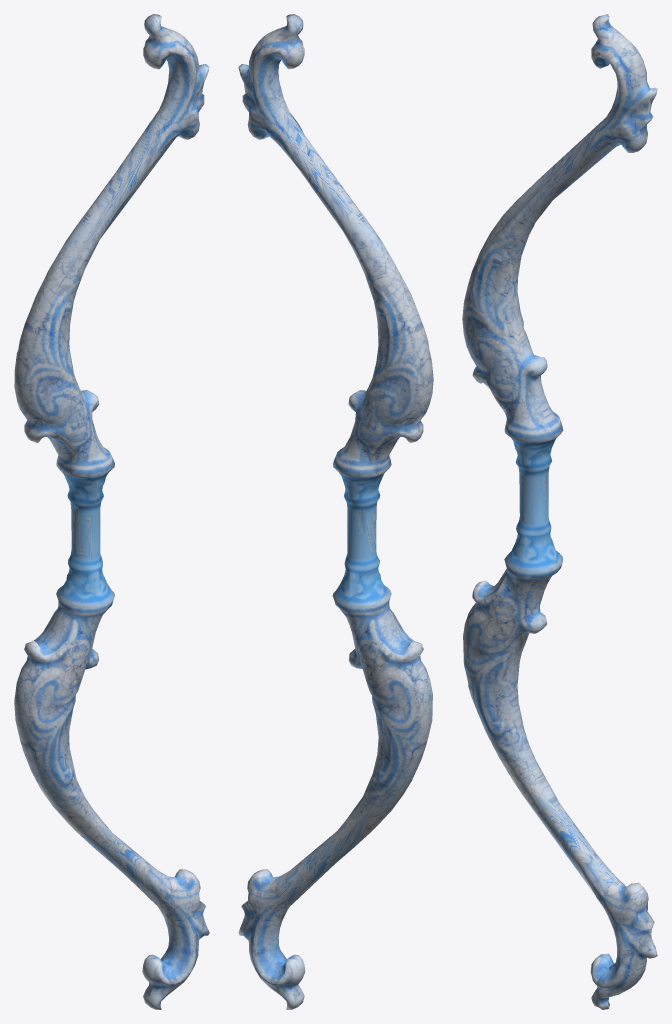
Rendered from Frost Bow.fbx.
3 renders of one model, left to right at view 1: azimuth 30°, elevation 25°; view 2: azimuth 150°, elevation 25°; view 3: azimuth 330°, elevation 25°, orthographic.
Visible parts, largest first — view 1: Bow; view 2: Bow; view 3: Bow.
Part boxes in pixels (left/top/right/bottom): Bow: left=14, top=14, right=209, bottom=1009; Bow: left=238, top=14, right=433, bottom=1009; Bow: left=462, top=14, right=657, bottom=1009.
Size of the model in its own units: 27.26 by 135 by 7.39.
